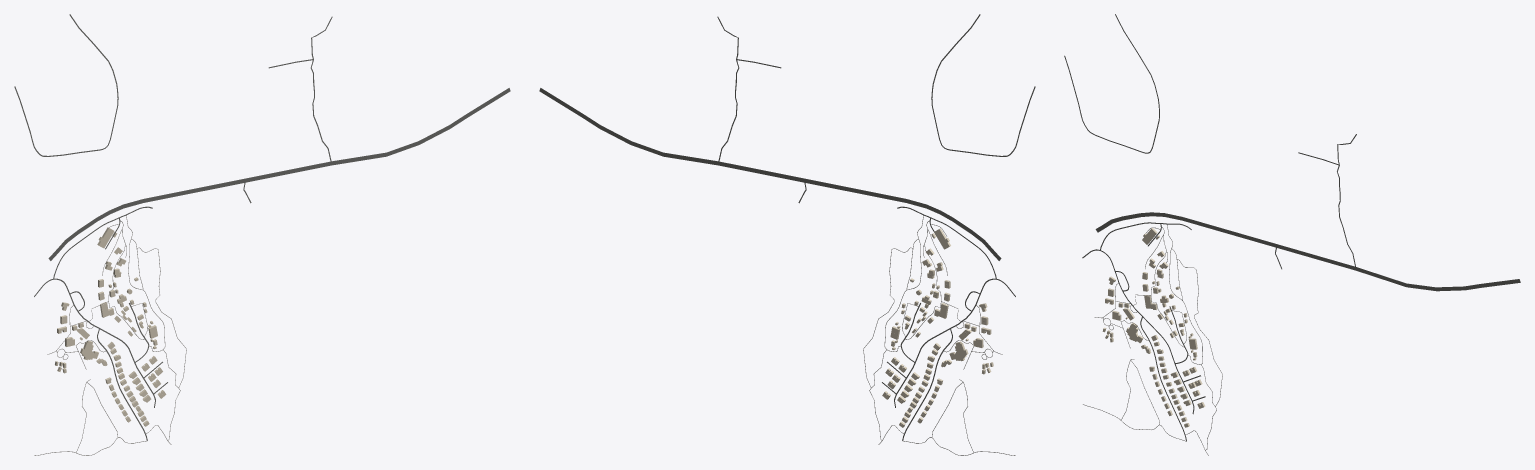
Rendered from historic-palestine-09_20_3508_3149.glb.
3 renders of one model, left to right at view 1: azimuth 30°, elevation 25°; view 2: azimuth 150°, elevation 25°; view 3: azimuth 330°, elevation 25°, orthographic. The views are drawn at different scales.
Parts seen in each view (by area): view 1: Road 60, Road; view 2: Road 60, Road; view 3: Road 60, Road.
Boxes of the visible parts, <box> form: Road 60: <box>48,88,510,260</box>; Road: <box>14,14,118,156</box>; Road 60: <box>539,88,1001,260</box>; Road: <box>931,14,1035,156</box>; Road 60: <box>1095,212,1520,291</box>; Road: <box>1064,14,1159,153</box>.
Bounding box in the file's own units: 1501 × 1317 × 8.7.
